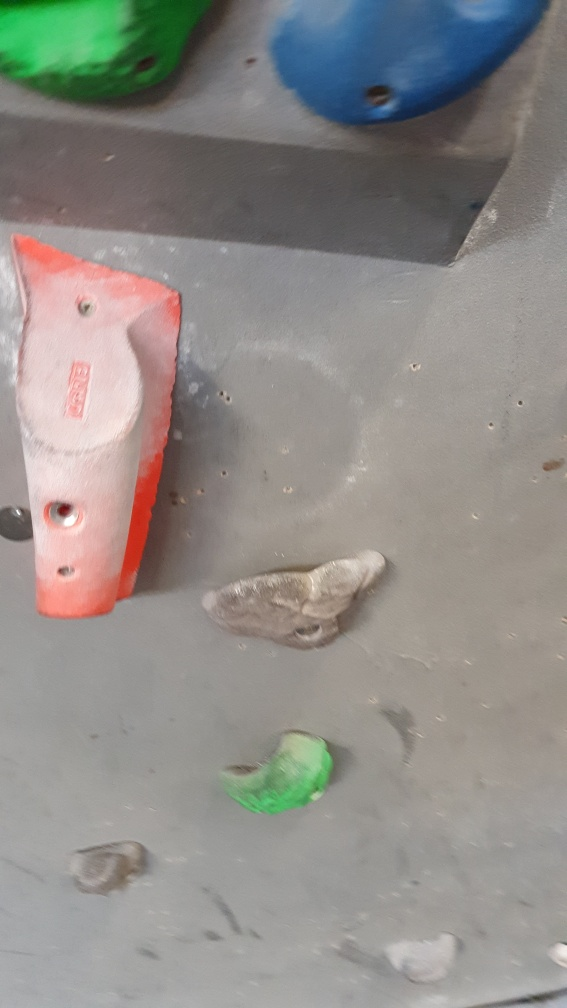Hand Start: (1, 495, 38, 546)
Jug: (198, 550, 390, 653), (212, 728, 339, 817), (383, 928, 466, 989)
Pinch: (11, 226, 187, 626)
